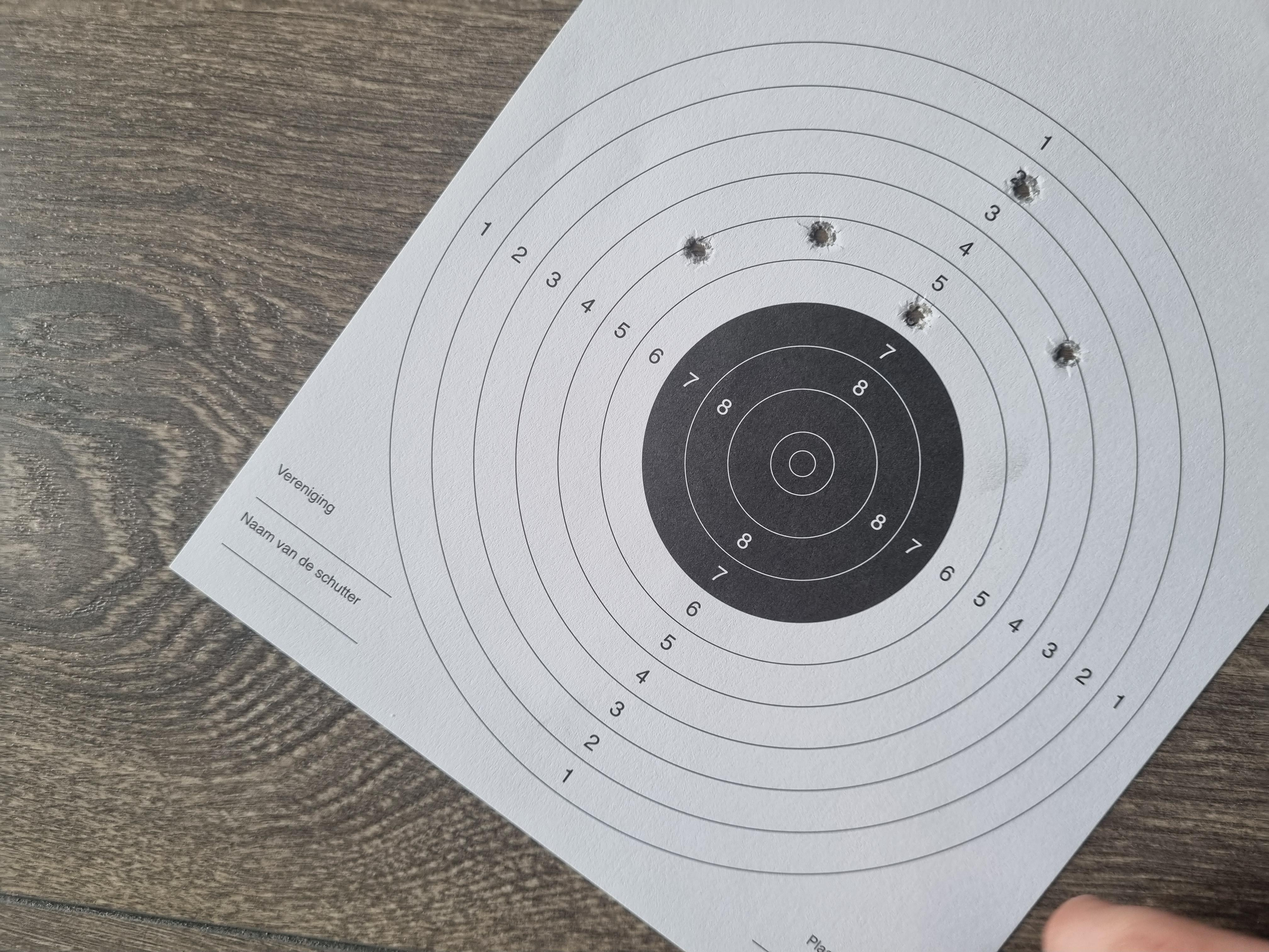hole: (826, 673, 875, 700), (935, 598, 975, 628), (914, 511, 956, 535), (996, 758, 1039, 780), (777, 787, 815, 811)
